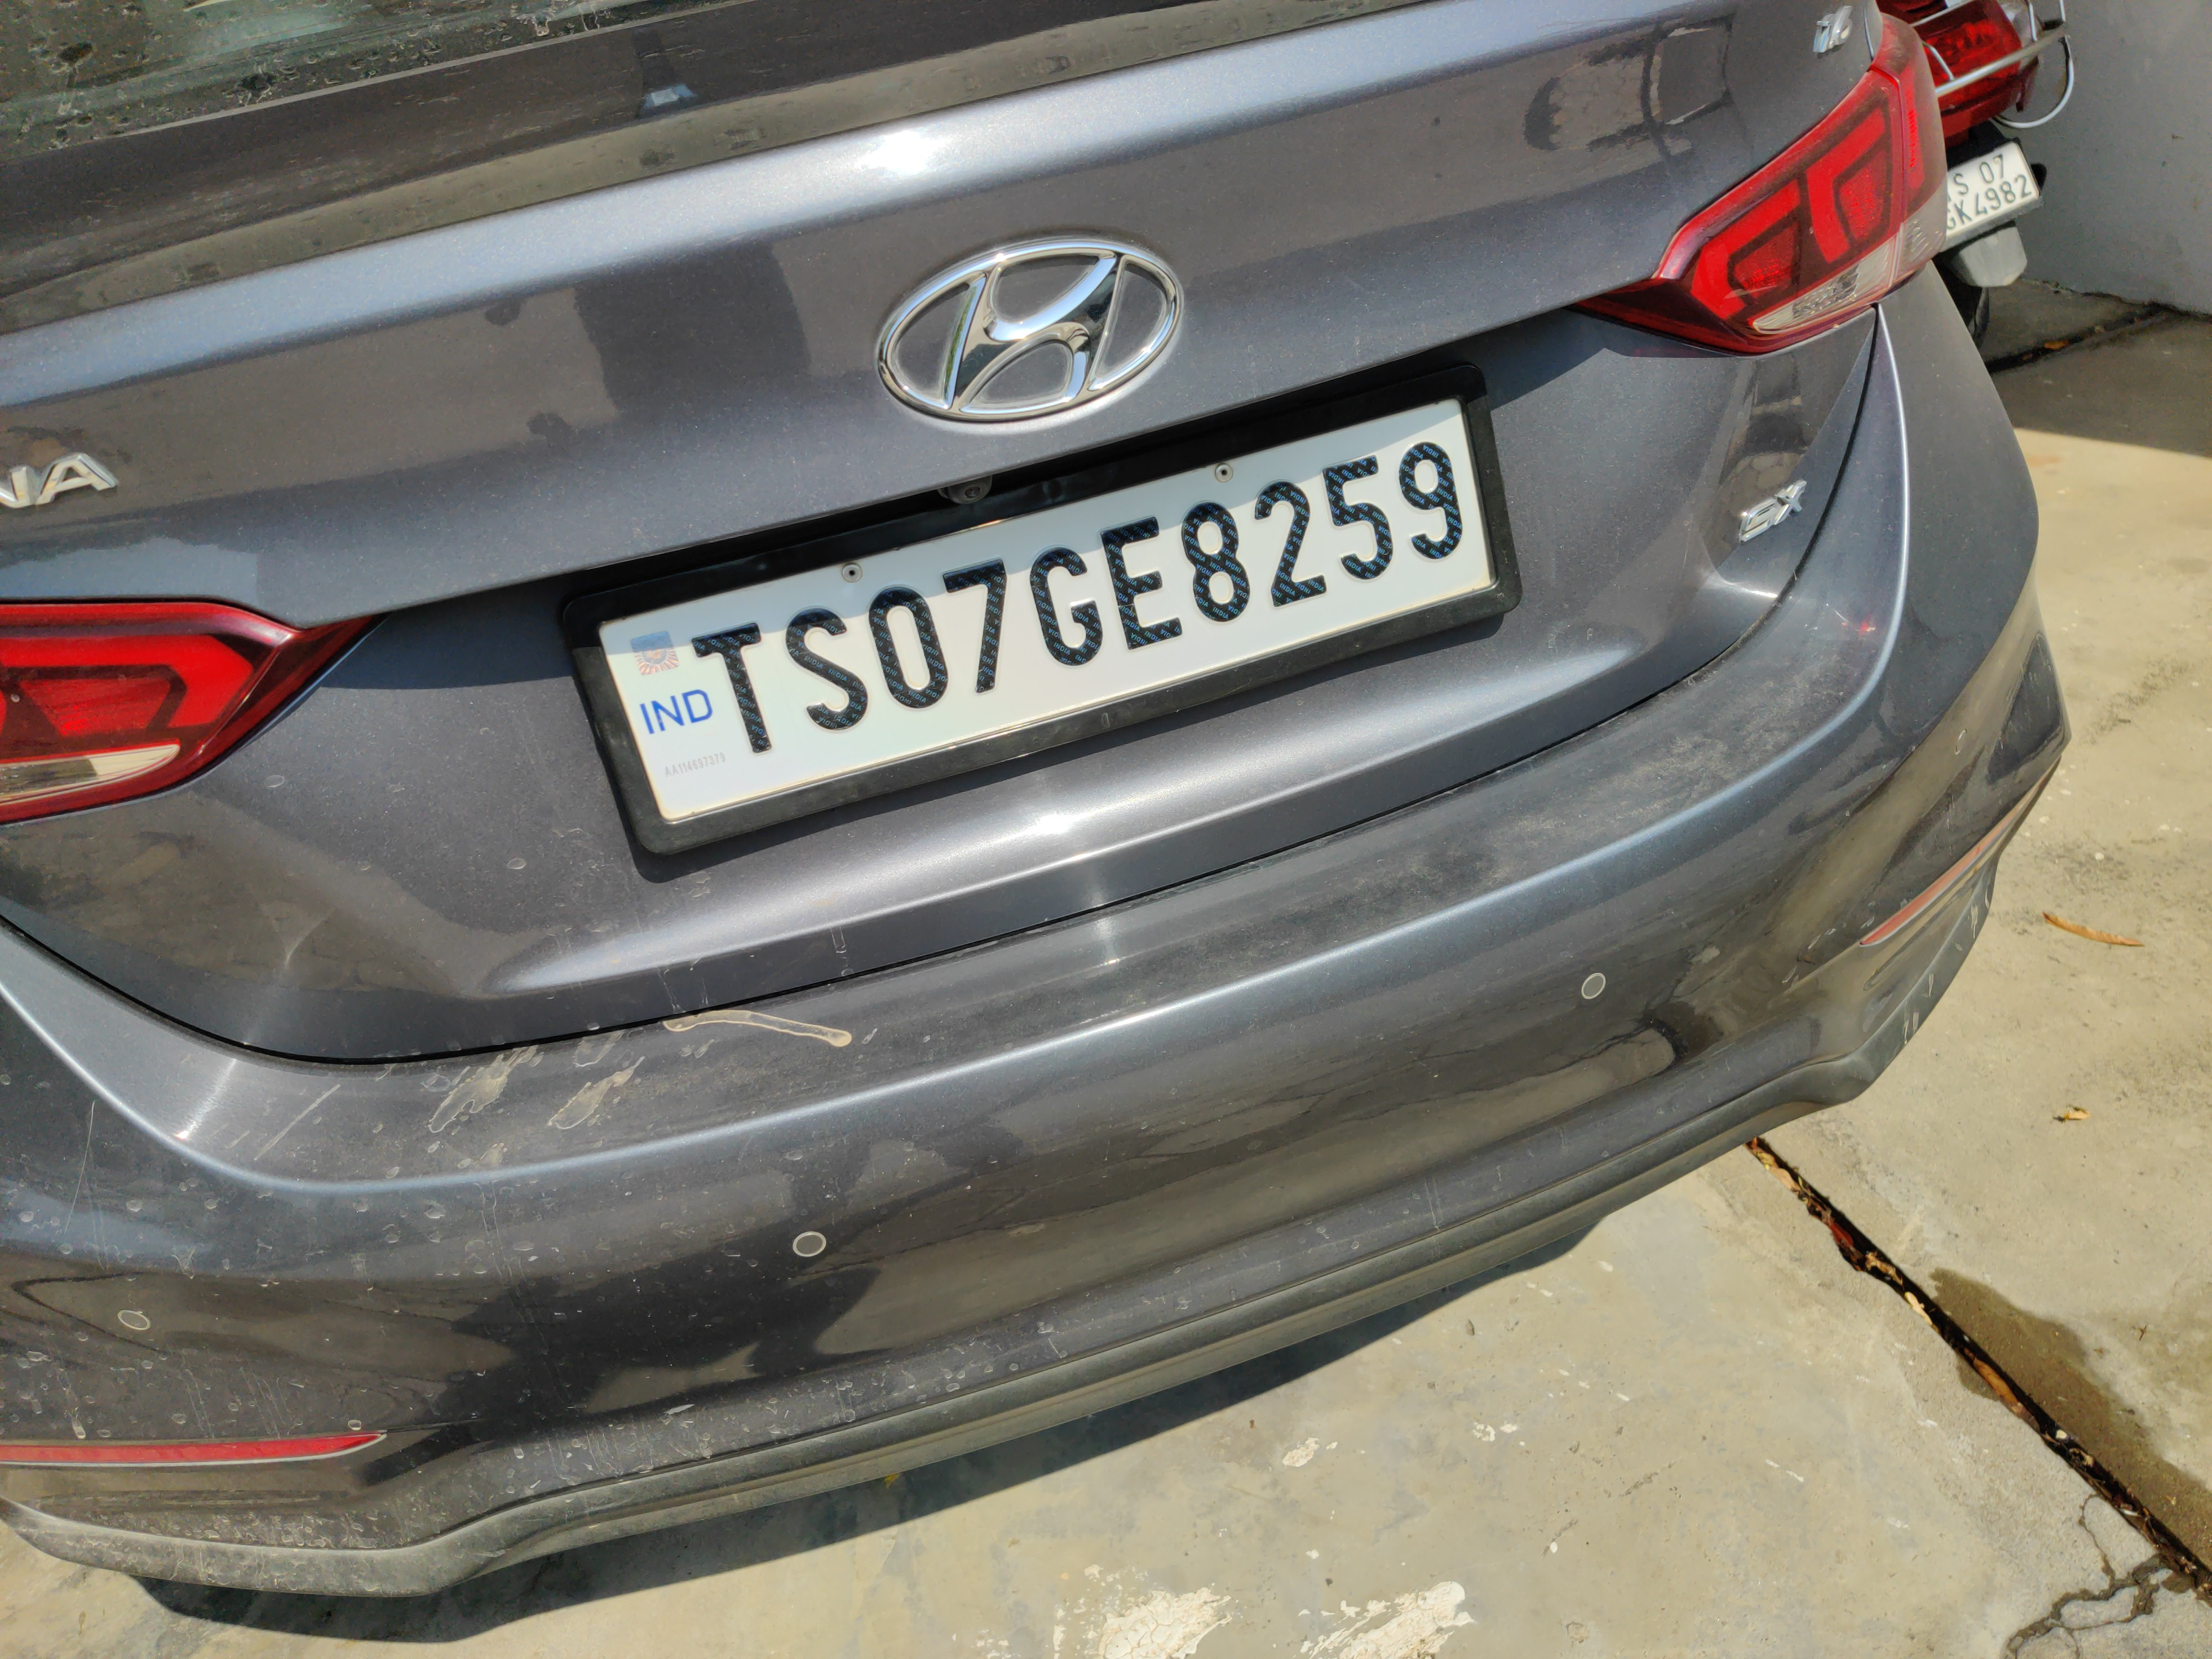plate: (553, 329, 1594, 864)
